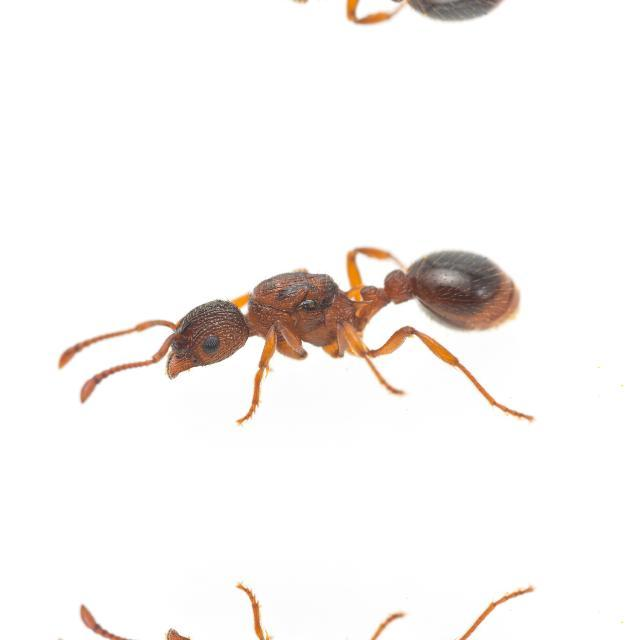Myrmica: (100, 230, 542, 400), (99, 0, 542, 40)
